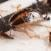cockroach: (9, 8, 32, 26)
